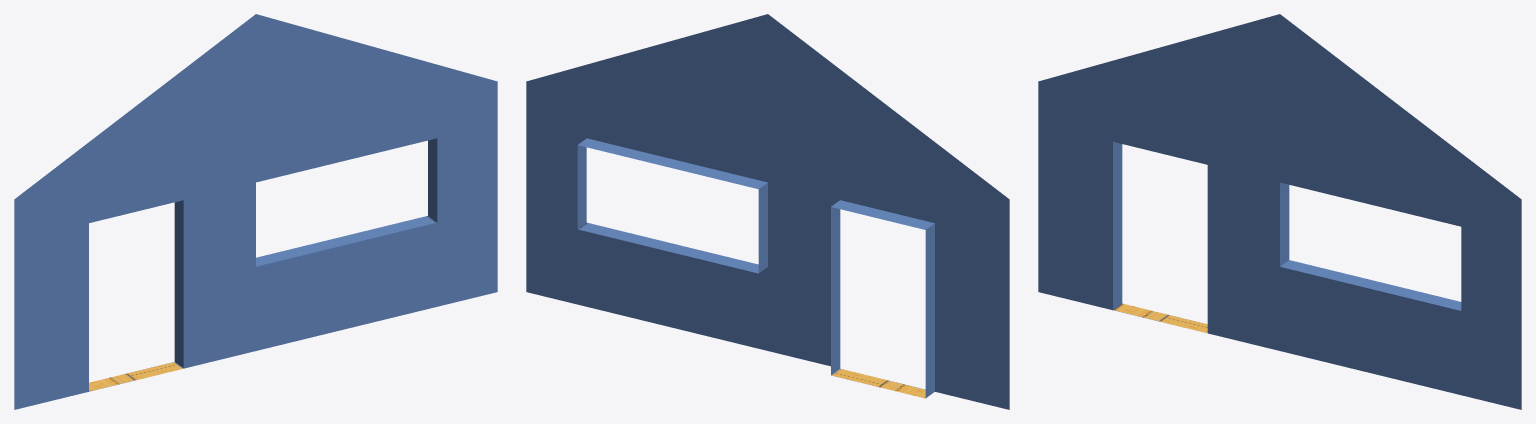
Rendered from front.obj.
3 renders of one model, left to right at view 1: azimuth 30°, elevation 25°; view 2: azimuth 150°, elevation 25°; view 3: azimuth 330°, elevation 25°, orthographic.
Visible parts, largest first — view 1: Front_Plane.012; view 2: Front_Plane.012; view 3: Front_Plane.012.
Boxes of the visible parts, x1,y1,x2,y2 form: Front_Plane.012: (14, 14, 497, 409); Front_Plane.012: (526, 14, 1009, 409); Front_Plane.012: (1038, 14, 1521, 409).
Bounding box in the file's own units: 6 × 4 × 0.2.
Materials: 1 (1 with a texture image).
